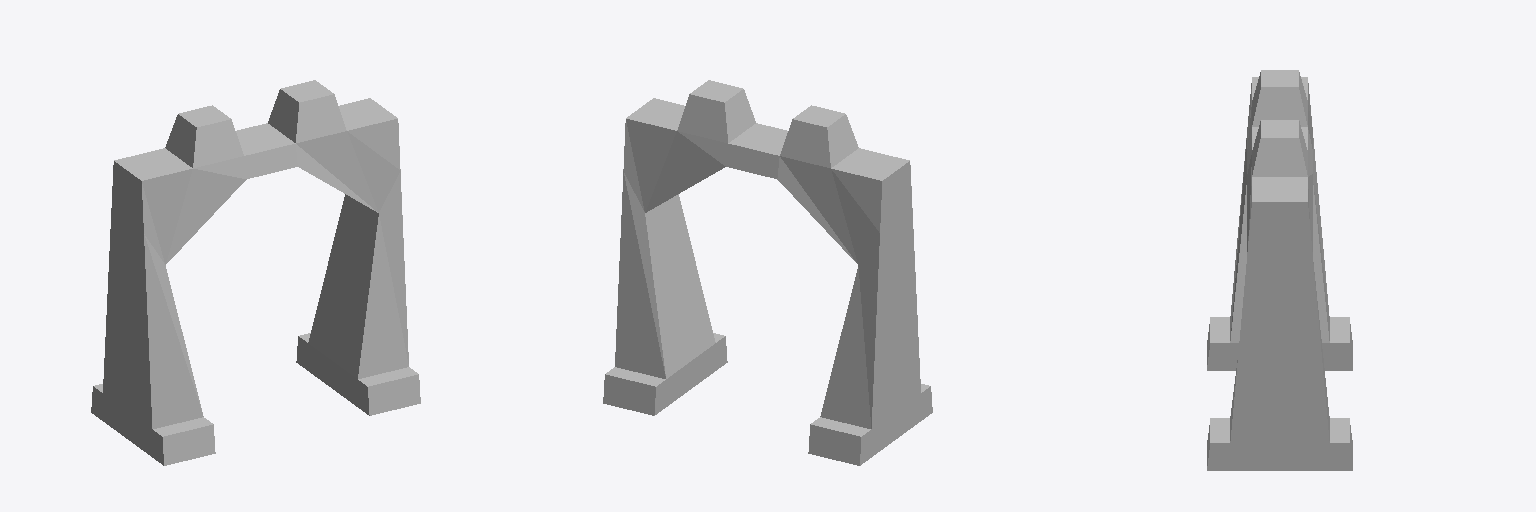
File: aStoneGate.obj
The picture shows the model from 3 angles: view 1: azimuth 30°, elevation 25°; view 2: azimuth 150°, elevation 25°; view 3: azimuth 270°, elevation 25°; orthographic projection.
Visible parts, largest first — view 1: Cube_Cube.001; view 2: Cube_Cube.001; view 3: Cube_Cube.001.
Boxes of the visible parts, <box> form: Cube_Cube.001: <box>91,80,420,465</box>; Cube_Cube.001: <box>603,80,932,465</box>; Cube_Cube.001: <box>1207,70,1352,470</box>.
Size of the model in its own units: 0.745 by 0.8438 by 0.3678.